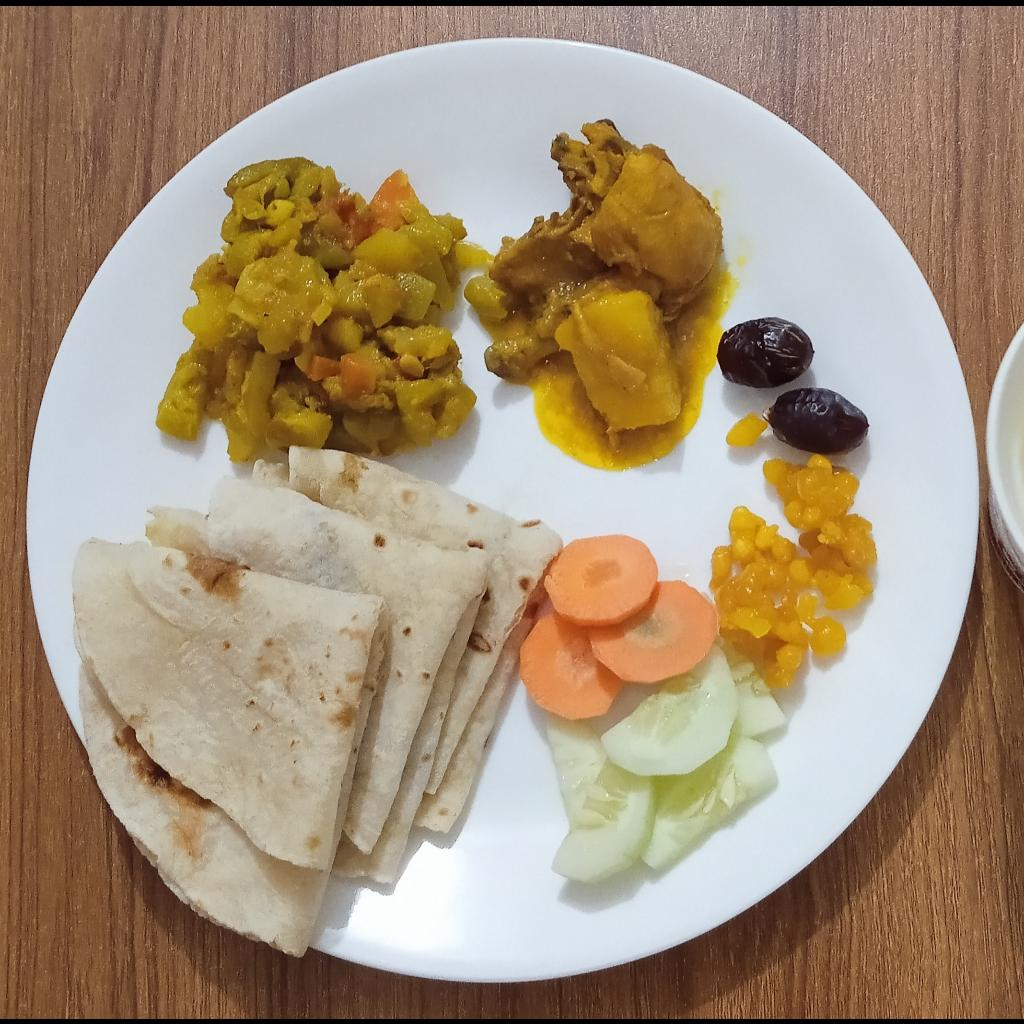burinda: (708, 456, 878, 687)
carrot: (518, 532, 716, 719)
chicken: (483, 118, 725, 381)
cucumber: (541, 638, 788, 883)
dates: (763, 386, 867, 455), (718, 316, 813, 386)
potato: (555, 291, 680, 433)
ruti: (73, 446, 565, 959)
vegetable: (155, 158, 484, 463)
